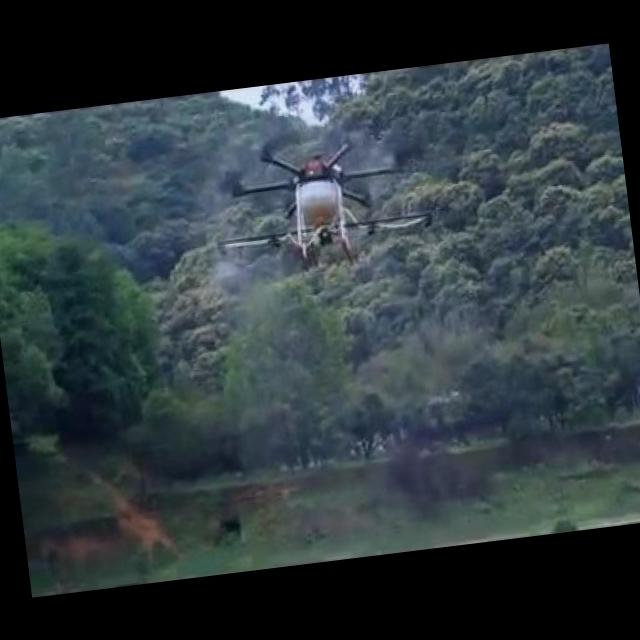drone: (202, 122, 436, 288)
